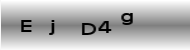4: (96, 19, 112, 33)
D: (80, 21, 96, 35)
E: (19, 18, 33, 34)
g: (120, 11, 133, 25)
j: (47, 19, 56, 36)
